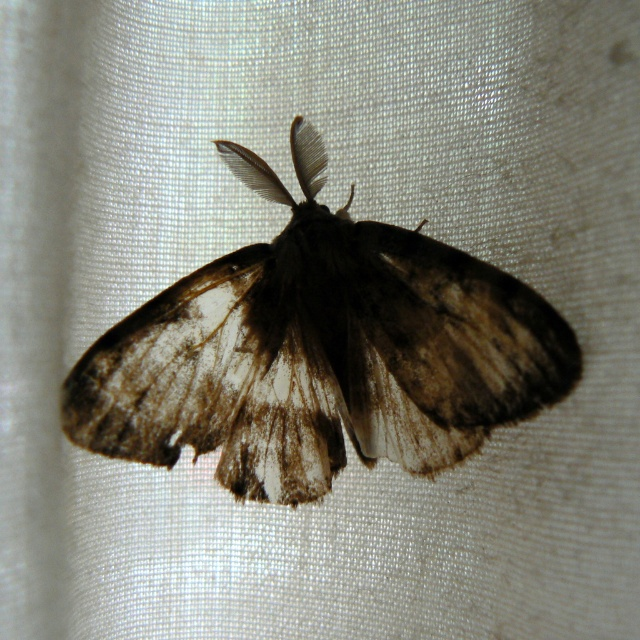Butterfly: (58, 116, 582, 504)
